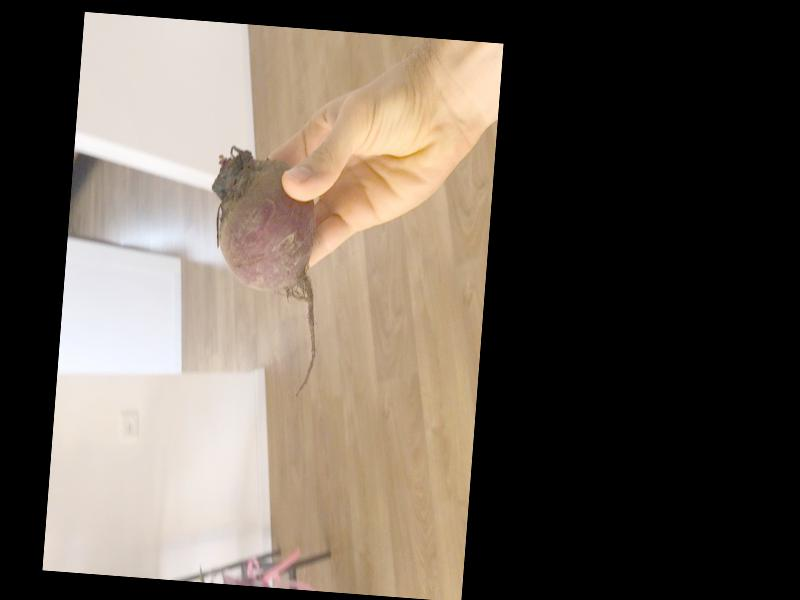Beet: (197, 147, 329, 399)
